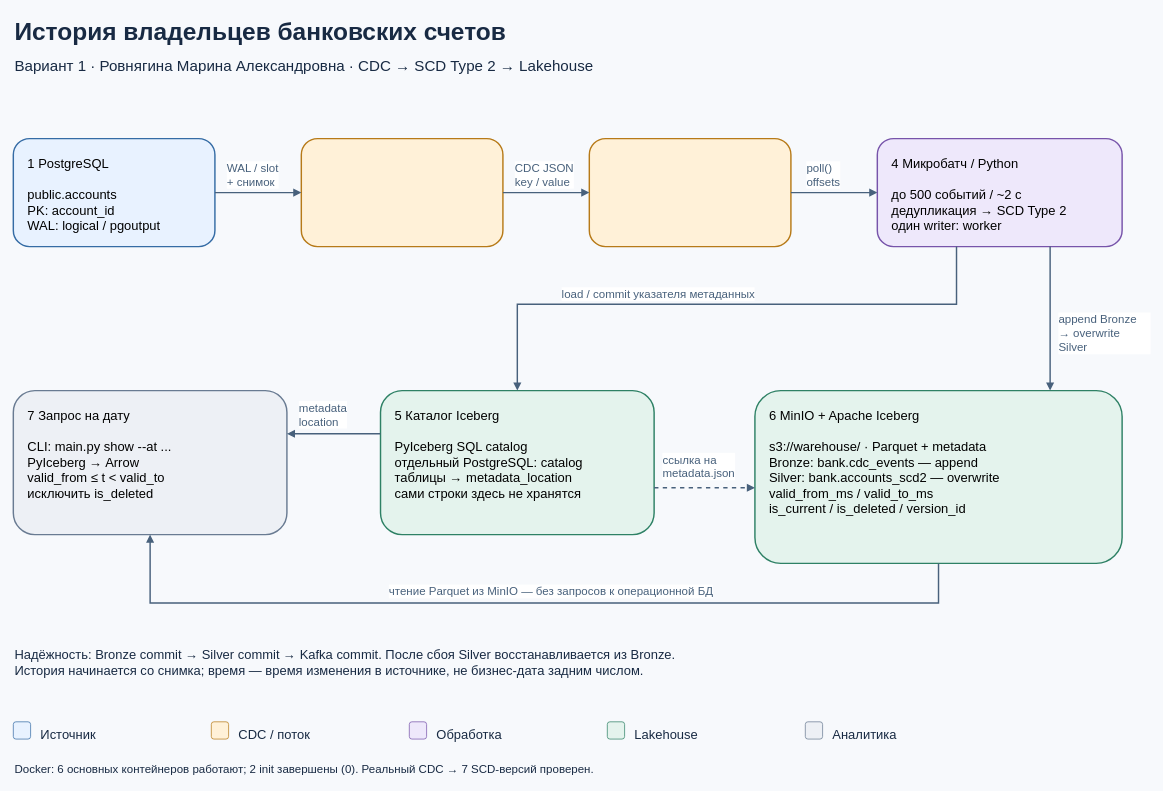
The diagram is 1163 pixels wide and 791 high, and some of its shapes have lost their labels. Each missing label, with the box of its shape:
2 Debezium initial snapshot → CDC r / c / u / d + LSN Kafka Connect: connect: (300, 138, 503, 247)
3 Kafka bank.public.accounts 1 partition · key: account_id retention: 7 дней: (588, 138, 791, 247)
